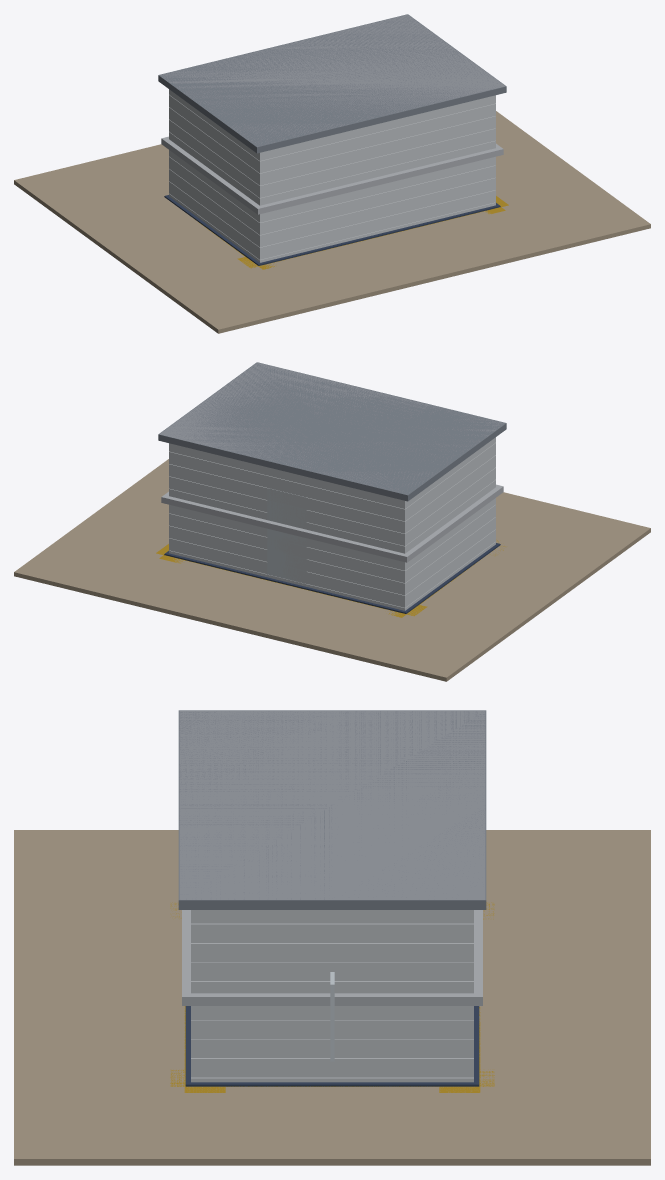
The model's file is stage_08_bands.glb.
The picture shows the model from 3 angles, top to bottom: view 1: azimuth 30°, elevation 25°; view 2: azimuth 150°, elevation 25°; view 3: azimuth 270°, elevation 25°; orthographic projection. The views are drawn at different scales.
Parts seen in each view (by area): view 1: world; view 2: world; view 3: world.
Boxes of the visible parts, x1,y1,x2,y2 form: world: (14,14,650,333); world: (14,362,650,681); world: (14,710,650,1165).
Size of the model in its own units: 11 by 3.75 by 9.
